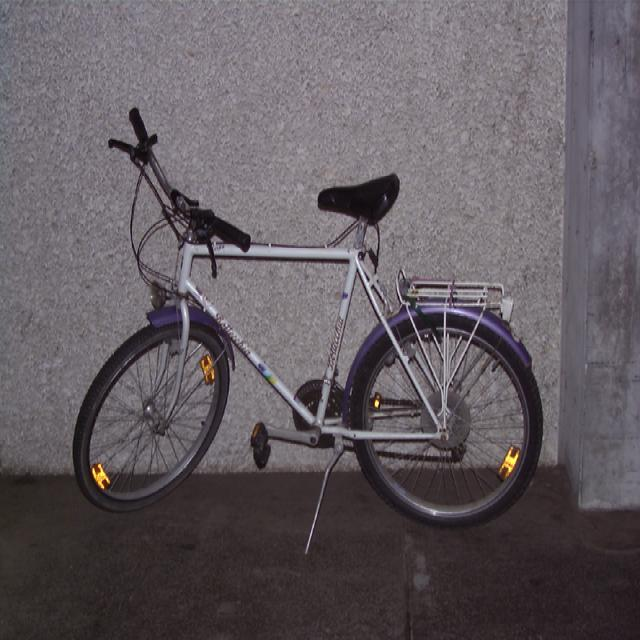bicycle: (71, 105, 543, 552)
